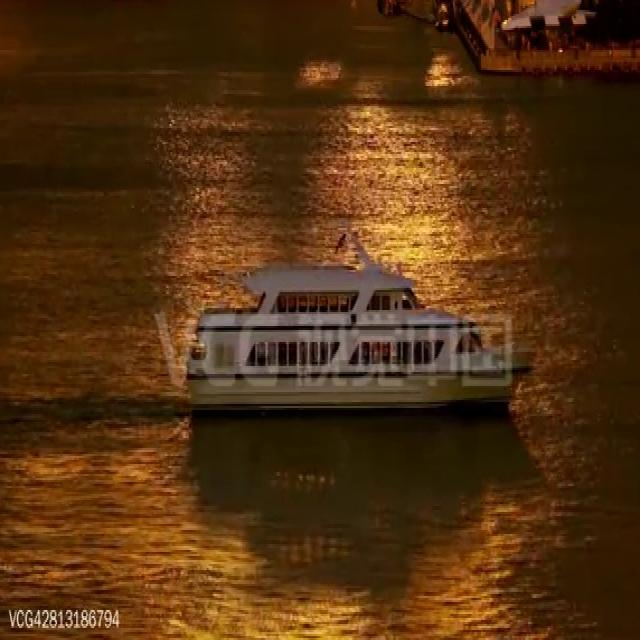passenger ship: (180, 252, 516, 416)
